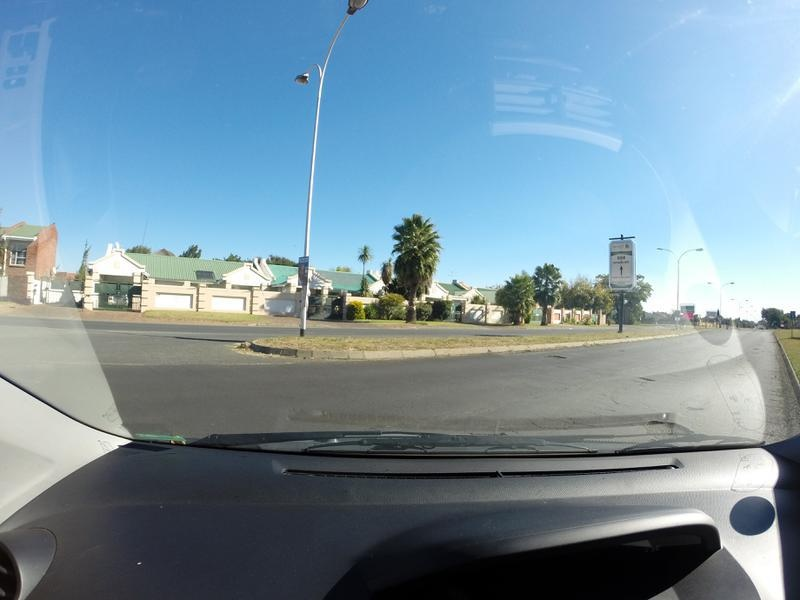pothole: (679, 403, 708, 413), (548, 353, 568, 361), (635, 377, 655, 382)
